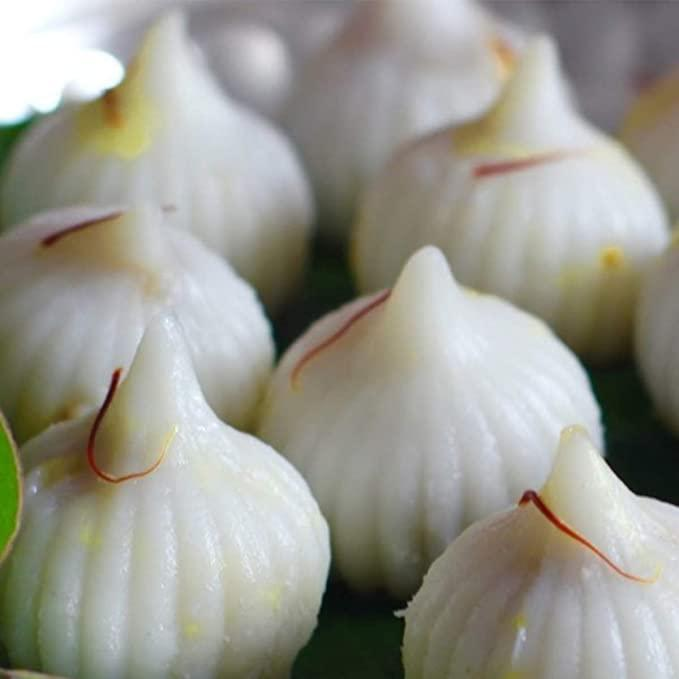modak: (75, 55, 648, 647)
